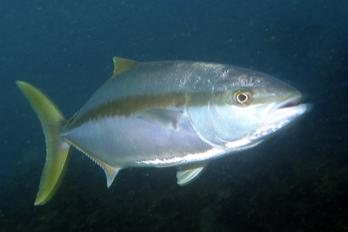Carangidae -Jacks-: (17, 44, 311, 209)
